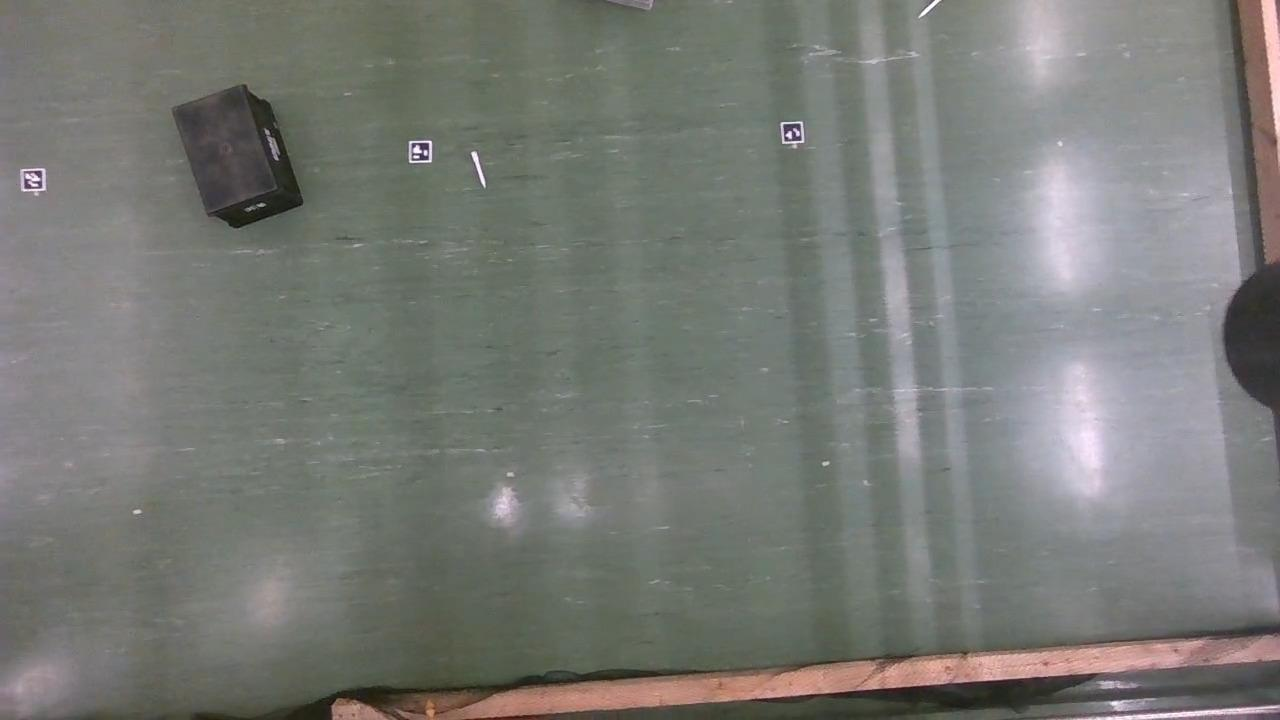probes: (912, 0, 943, 19), (474, 154, 487, 189)
rako: (172, 86, 304, 231)
